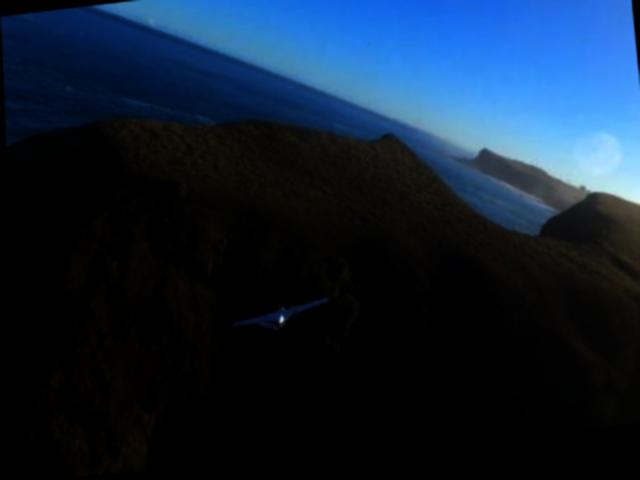uav: (224, 297, 330, 339)
